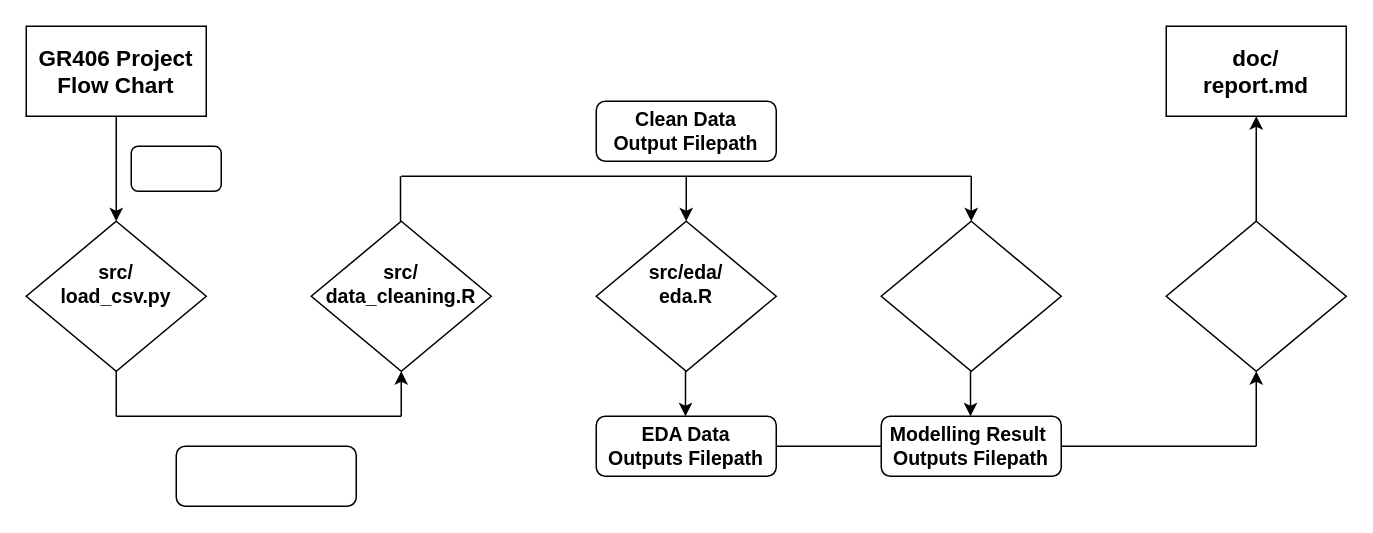
Image size: 1373x533. Some labels were removed from this diagram. Each missing label, with the centre of its shape:
doc/ report.Rmd: the point at 1255,295
Raw Data Output Filepath: the point at 265,475
src/ modelling.R: the point at 970,295
URL: the point at 175,168
